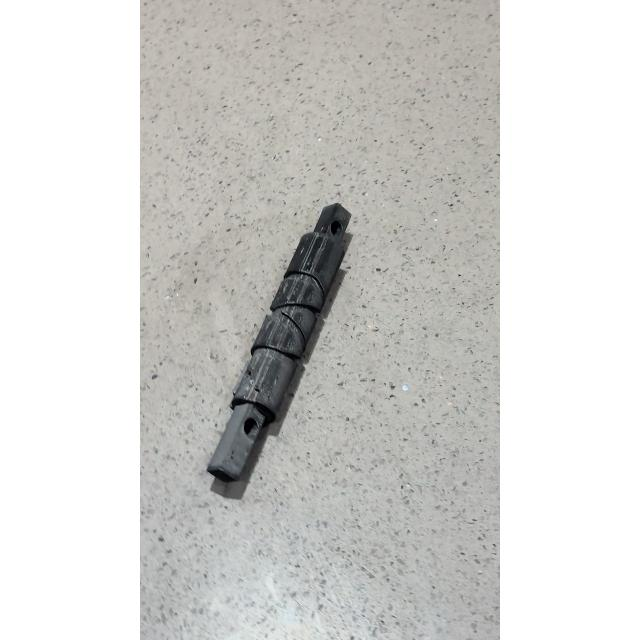Pieza_1: (200, 188, 376, 500)
